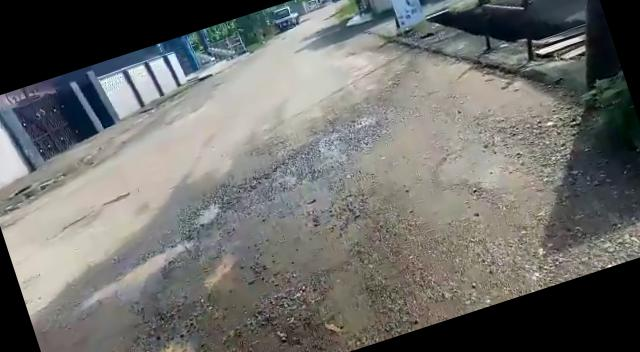pothole: (185, 194, 232, 232)
